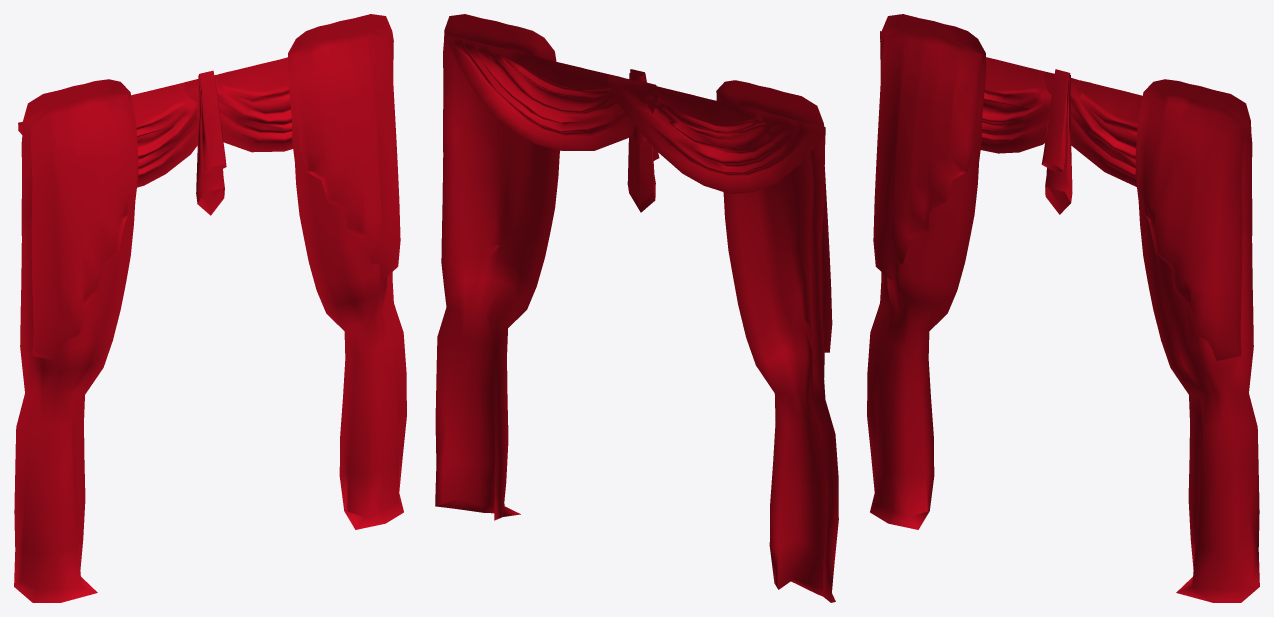
Rendered from 60_2_Curtains.fbx.
The picture shows the model from 3 angles, left to right: view 1: azimuth 30°, elevation 25°; view 2: azimuth 150°, elevation 25°; view 3: azimuth 330°, elevation 25°; orthographic projection. The views are drawn at different scales.
Parts seen in each view (by area): view 1: SM_Curtain_2.0.2; view 2: SM_Curtain_2.0.2; view 3: SM_Curtain_2.0.2.
Part boxes in pixels (left/top/right/bottom): SM_Curtain_2.0.2: left=14, top=14, right=406, bottom=602; SM_Curtain_2.0.2: left=435, top=14, right=838, bottom=602; SM_Curtain_2.0.2: left=867, top=14, right=1259, bottom=602.
Bounding box in the file's own units: 213 × 258 × 19.62.
